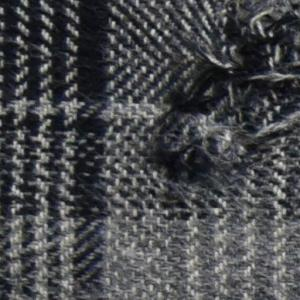Damage: (142, 1, 300, 222)
